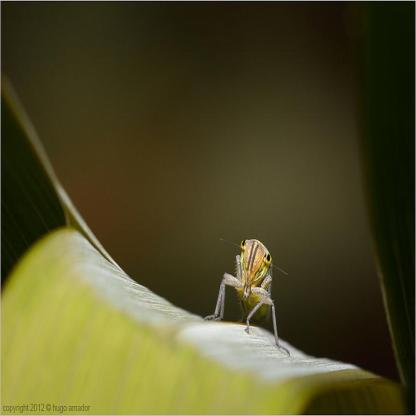Green-Leafhopper: (204, 235, 297, 356)
